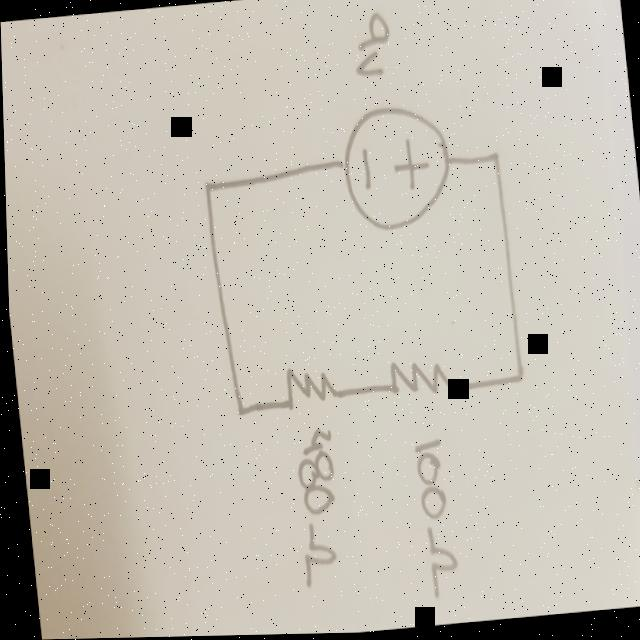junction: (191, 172, 217, 203), (225, 395, 250, 425), (502, 363, 527, 390), (482, 149, 504, 174)
resistor: (375, 354, 461, 410), (272, 360, 343, 421)
source: (333, 101, 457, 240)
text: (283, 422, 346, 591), (403, 435, 458, 603), (342, 8, 399, 88)
